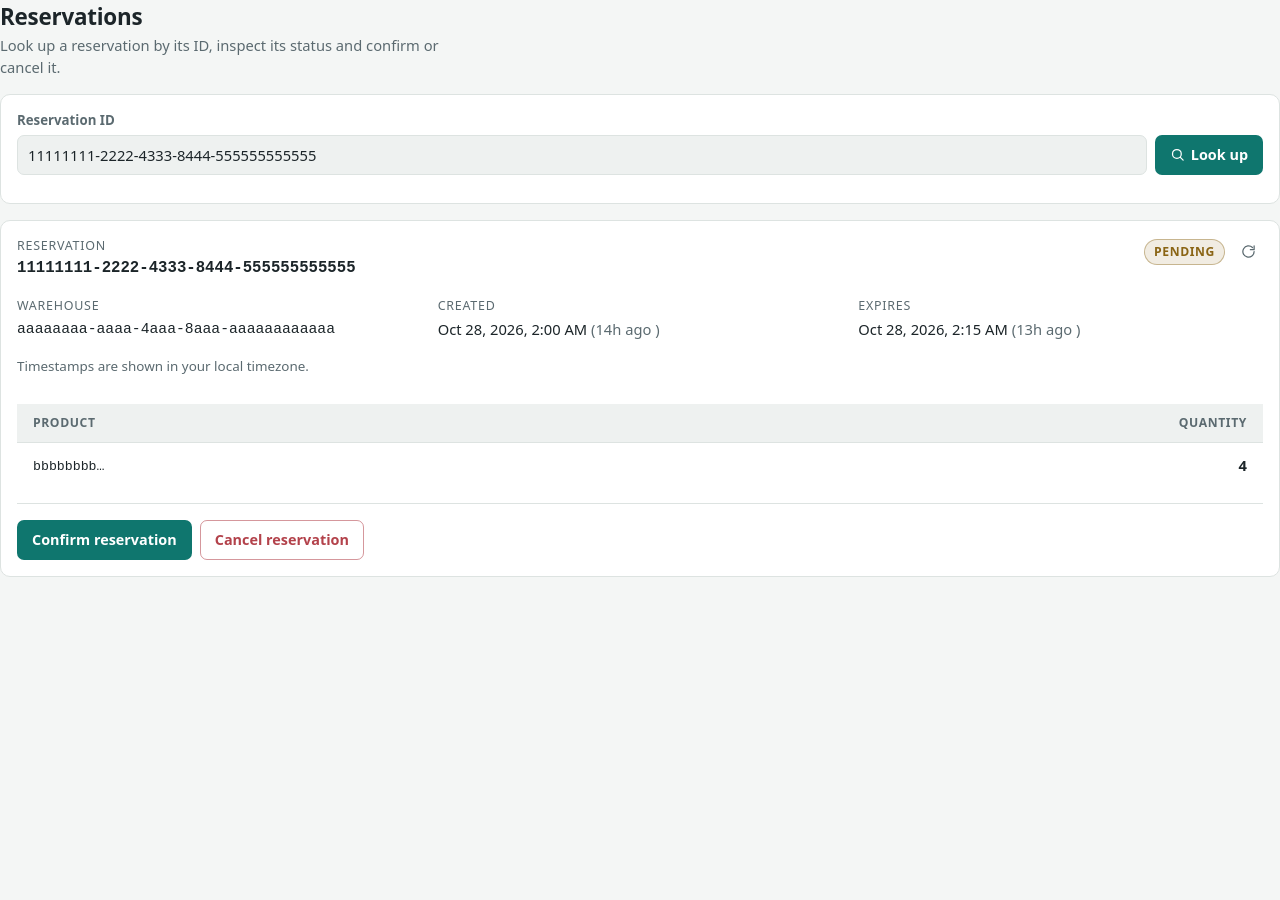
it: ReservationsPage › shows the backend's conflict response when a transition is rejected
Click the button "Cancel reservation" at (282, 540), box [200,520,364,560]
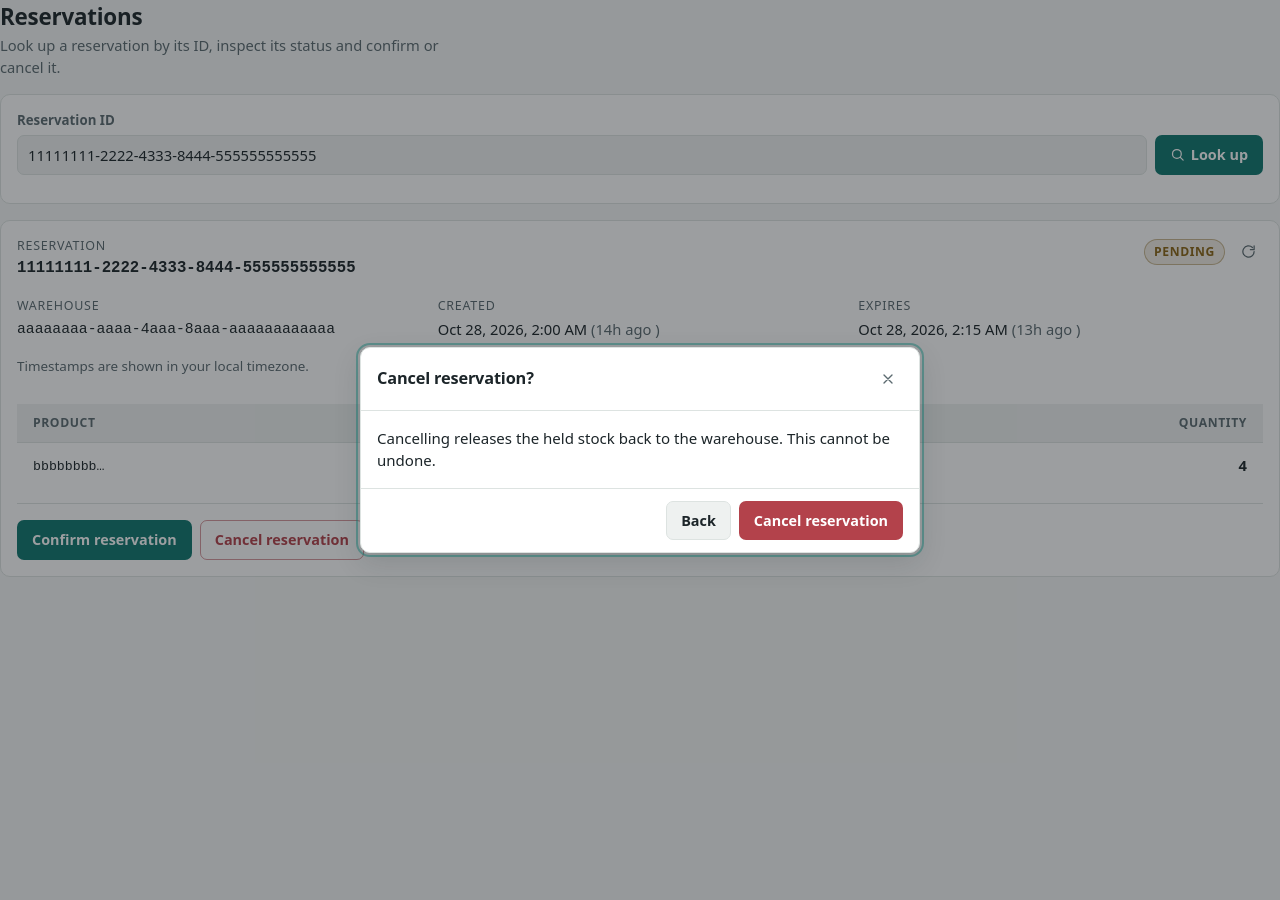
Click the button "Cancel reservation" at (821, 521), box [739,501,903,540]
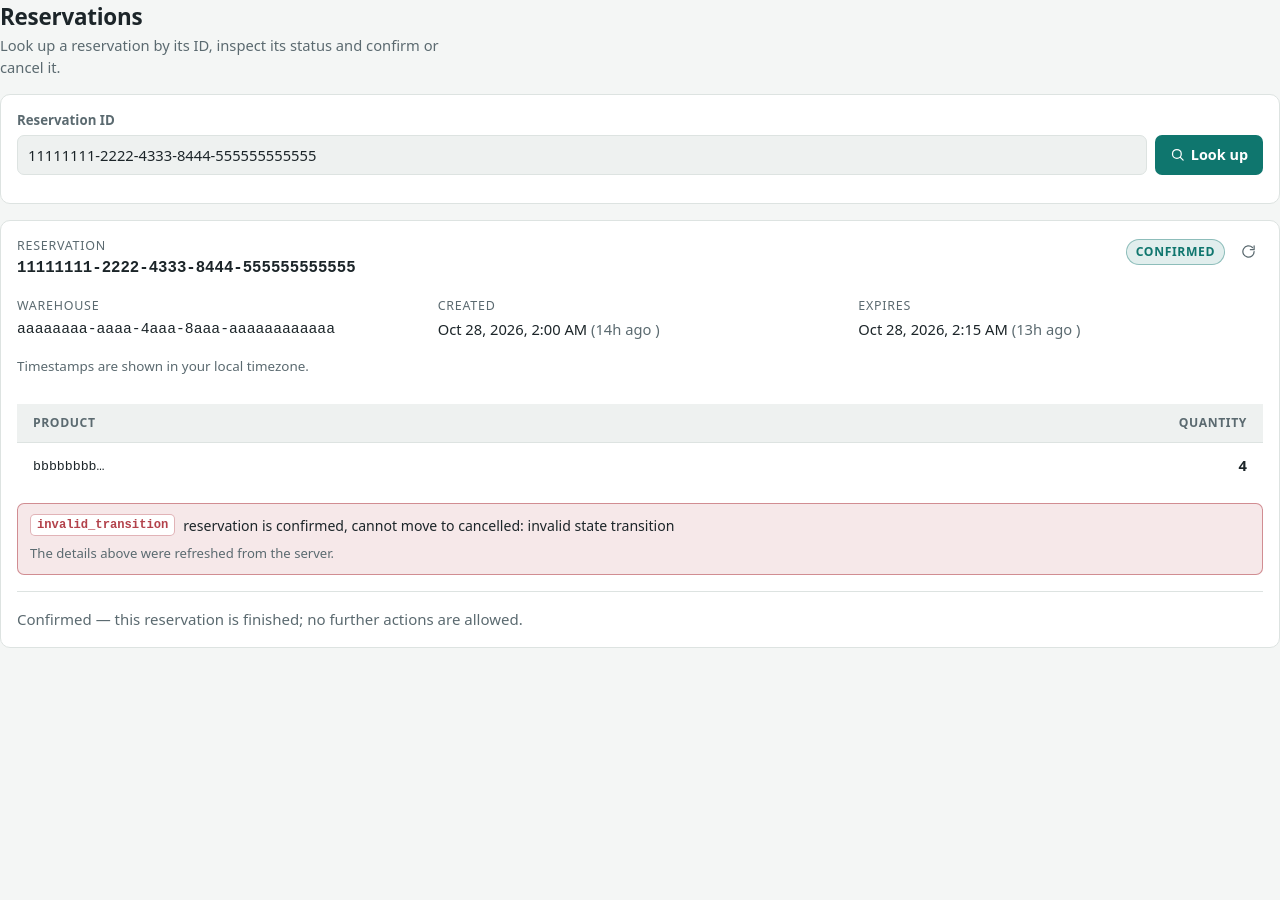
Result: the message shows "invalid_transition" at [37,518,168,532]
Result: the message shows "cannot move to cancelled" at [183,516,674,535]
Result: the text "confirmed" is shown at [1126,239,1225,265]
